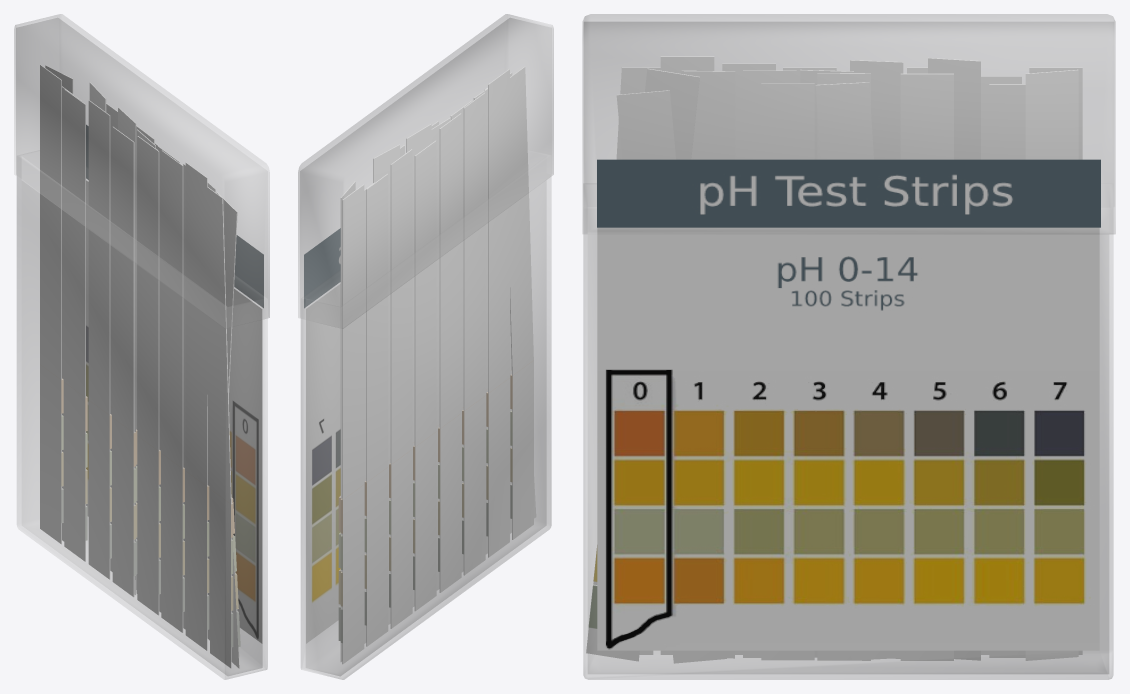
The model's file is pH_TestStripPackage.fbx.
3 renders of one model, left to right at view 1: azimuth 30°, elevation 25°; view 2: azimuth 150°, elevation 25°; view 3: azimuth 270°, elevation 25°, orthographic. The views are drawn at different scales.
Visible parts, largest first — view 1: ph_testStripsPackBody, Strips, ph_testStripsPackHead; view 2: ph_testStripsPackBody, Strips, ph_testStripsPackHead; view 3: ph_testStripsPackBody, ph_testStripsPackHead, Strips.
Part boxes in pixels (x1,y1,x2,y2): ph_testStripsPackBody: (17, 150, 267, 679); Strips: (40, 65, 240, 668); ph_testStripsPackHead: (14, 14, 269, 328); ph_testStripsPackBody: (301, 156, 551, 679); Strips: (338, 67, 536, 663); ph_testStripsPackHead: (298, 14, 553, 328); ph_testStripsPackBody: (583, 184, 1113, 679); ph_testStripsPackHead: (582, 14, 1115, 233); Strips: (586, 56, 1082, 663).
Bounding box in the file's own units: 0.0105 × 0.1127 × 0.0852.
